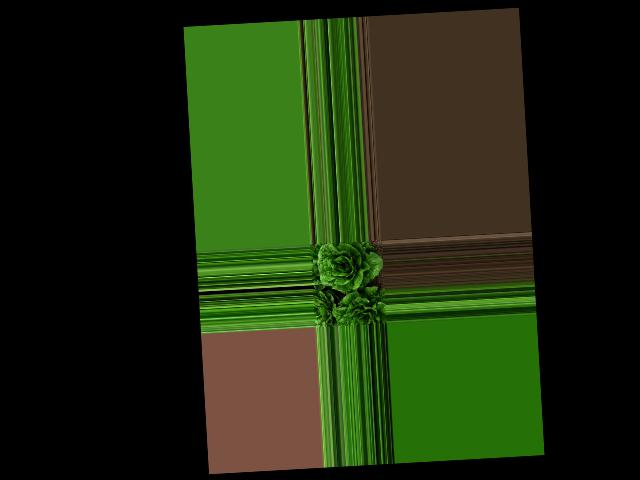lettuce: (331, 290, 385, 327)
